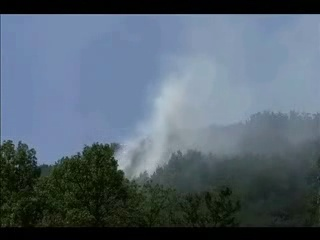smoke: (149, 13, 318, 174), (108, 113, 192, 188)
